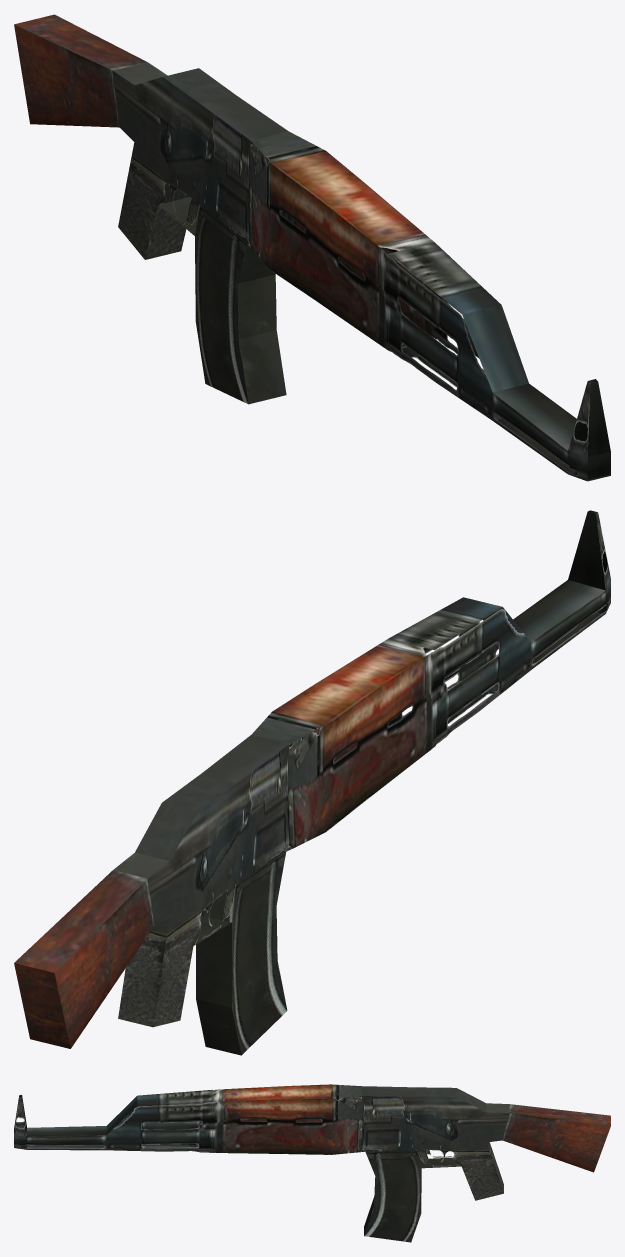
Rendered from AK_47_remake._final.fbx.
3 views of the same model, one above another, from view 1: azimuth 30°, elevation 25°; view 2: azimuth 150°, elevation 25°; view 3: azimuth 270°, elevation 25° (orthographic). The views are drawn at different scales.
Parts seen in each view (by area): view 1: Cube; view 2: Cube; view 3: Cube.
Part boxes in pixels (x1,y1,x2,y2): Cube: (14, 14, 610, 481); Cube: (14, 510, 610, 1055); Cube: (14, 1084, 610, 1242).
Bounding box in the file's own units: 394 × 7116 × 1931.
